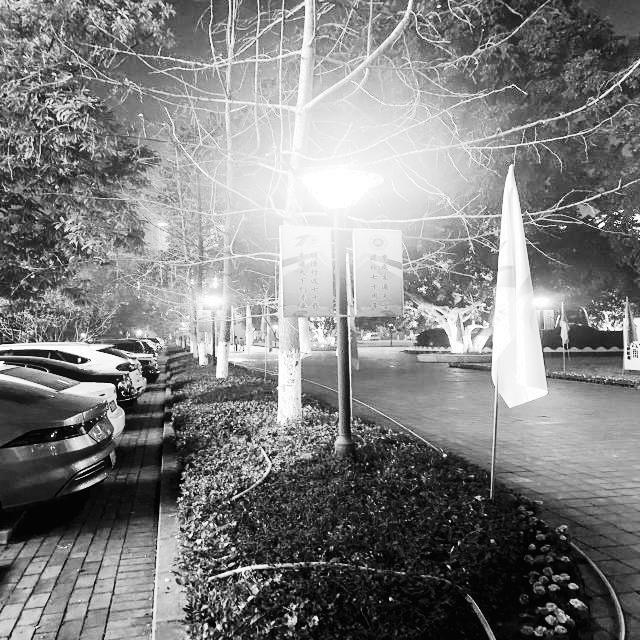Light: (299, 166, 382, 461)
